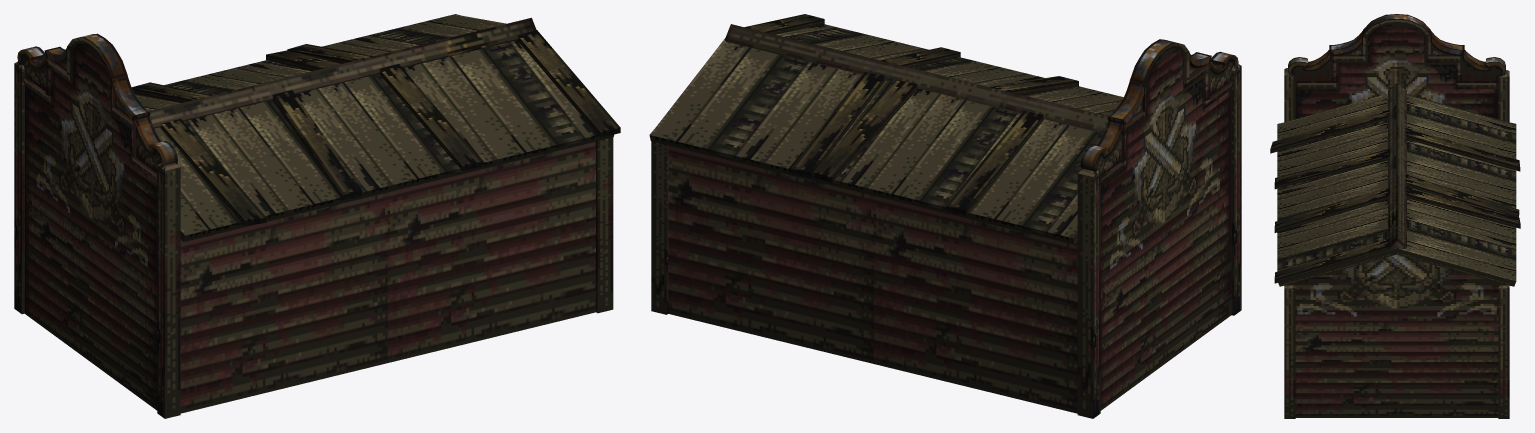
File: EnvBdgMD_Wilderness_A_Outdoor_Shop_Weapon_Broken.FBX
3 renders of one model, left to right at view 1: azimuth 30°, elevation 25°; view 2: azimuth 150°, elevation 25°; view 3: azimuth 270°, elevation 25°, orthographic. The views are drawn at different scales.
Visible parts, largest first — view 1: EnvBdgMD_Wilderness_A_Outdoor_Shop_Weapon_Broken; view 2: EnvBdgMD_Wilderness_A_Outdoor_Shop_Weapon_Broken; view 3: EnvBdgMD_Wilderness_A_Outdoor_Shop_Weapon_Broken.
Boxes of the visible parts, x1,y1,x2,y2 form: EnvBdgMD_Wilderness_A_Outdoor_Shop_Weapon_Broken: (14,14,620,418); EnvBdgMD_Wilderness_A_Outdoor_Shop_Weapon_Broken: (649,14,1241,418); EnvBdgMD_Wilderness_A_Outdoor_Shop_Weapon_Broken: (1270,14,1520,418).
Bounding box in the file's own units: 862 × 590 × 556.
1 material, 1 textured.
